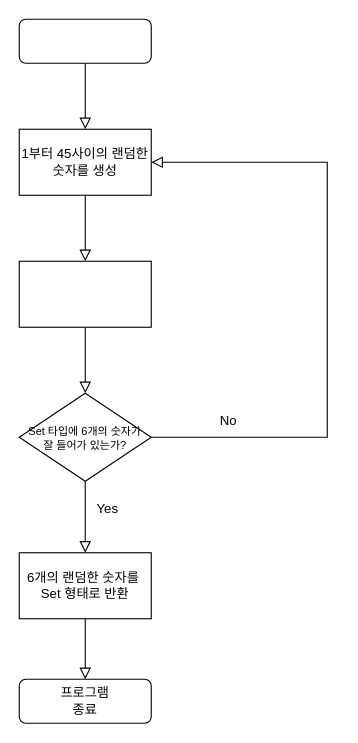
Some shapes in this 358 by 743 pixel diagram are drawn without their labels. The shapes that lost their labels are listed below. From the top down, each one's centre as x and y in pixels, then its label:
pixel 84 40: 시작
pixel 84 293: Set 타입으로 랜덤 숫자 저장
